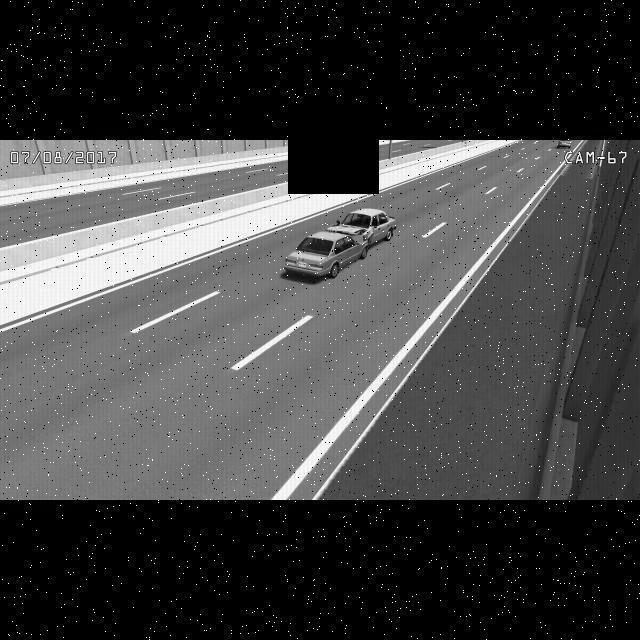accident: (281, 207, 399, 282)
vehicle: (554, 138, 579, 152)
